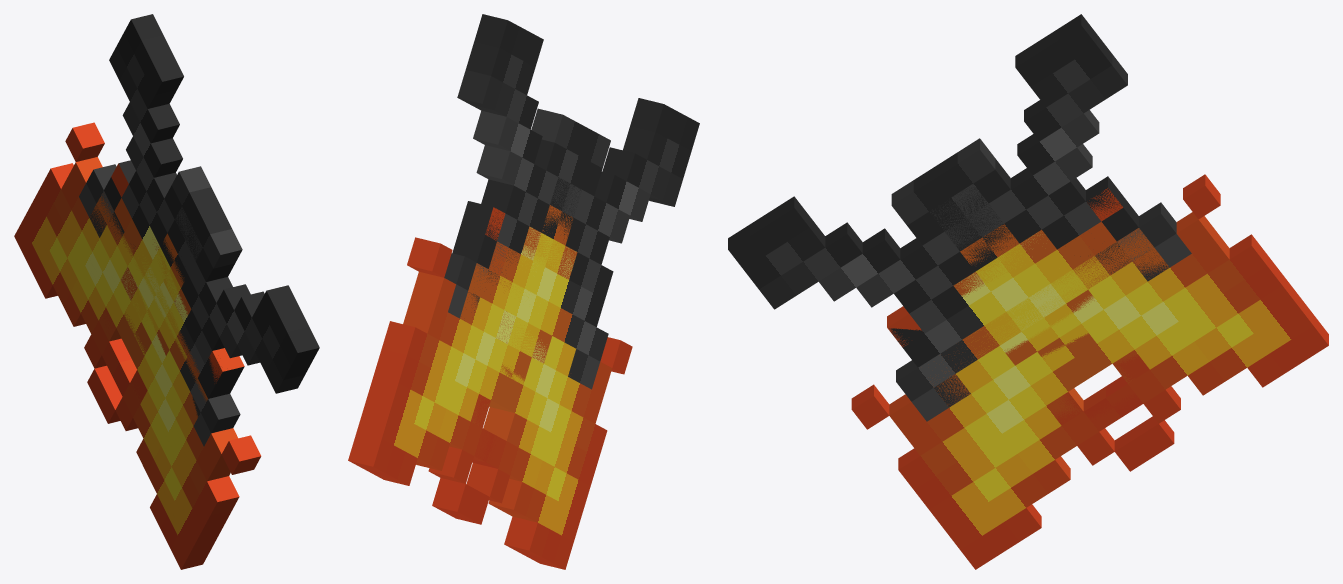
The model's file is dragon_fire_shortsword.glb.
3 views of the same model, side by side, from view 1: azimuth 30°, elevation 25°; view 2: azimuth 150°, elevation 25°; view 3: azimuth 270°, elevation 25° (orthographic). The views are drawn at different scales.
Parts seen in each view (by area): view 1: main__Tool_R, off__Tool_L; view 2: main__Tool_R, off__Tool_L; view 3: main__Tool_R, off__Tool_L.
Part boxes in pixels (<box>): main__Tool_R: <box>14,122,319,446</box>; off__Tool_L: <box>79,14,261,569</box>; main__Tool_R: <box>348,98,699,518</box>; off__Tool_L: <box>444,14,632,569</box>; main__Tool_R: <box>728,138,1328,457</box>; off__Tool_L: <box>851,14,1191,569</box>.
Size of the model in its own units: 0.0531 by 1.18 by 1.18.
1 material, 1 textured.
